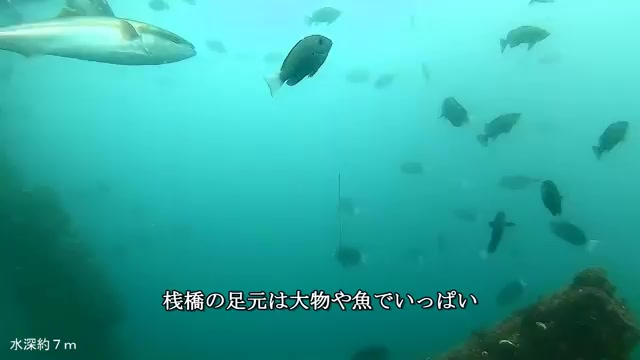hamati: (1, 5, 206, 75)
smallfish: (262, 23, 350, 111), (523, 170, 586, 225), (493, 18, 565, 66), (480, 106, 535, 161), (588, 114, 640, 164), (552, 211, 606, 253), (443, 96, 487, 135)
